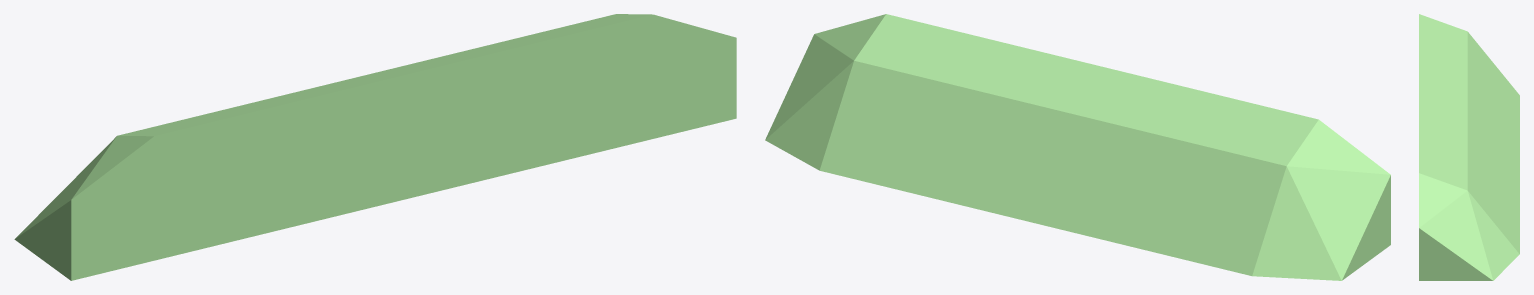
Rendered from Arctic_CorridorSnowPile_01_Physics_Win32.glb.
The picture shows the model from 3 angles, left to right: view 1: azimuth 30°, elevation 25°; view 2: azimuth 150°, elevation 25°; view 3: azimuth 270°, elevation 25°; orthographic projection. The views are drawn at different scales.
Visible parts, largest first — view 1: r0_p0_convex; view 2: r0_p0_convex; view 3: r0_p0_convex.
Part boxes in pixels (x1=…): r0_p0_convex: x1=14, y1=14, x2=736, y2=280; r0_p0_convex: x1=765, y1=14, x2=1390, y2=280; r0_p0_convex: x1=1419, y1=14, x2=1519, y2=280.
Bounding box in the file's own units: 5.05 × 0.9026 × 1.01.
